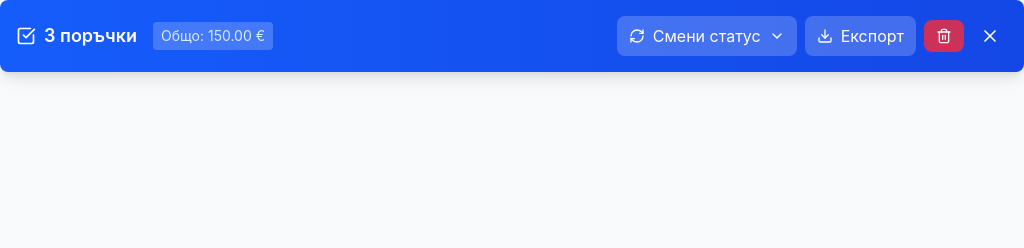
it: BulkActionsBar › delete › closes confirmation on cancel
Click the button titled "Изтрий избраните": (944, 36) x1=924 y1=20 x2=964 y2=52
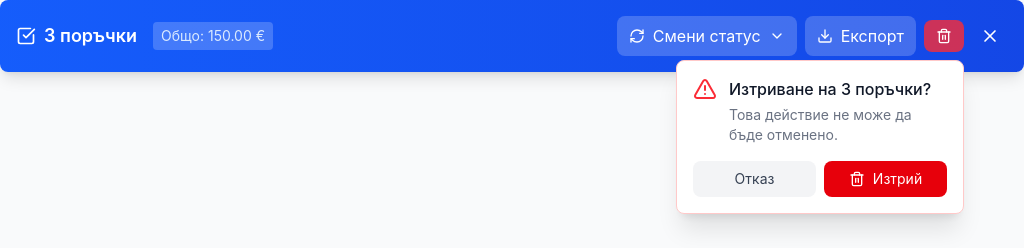
Check: the heading "Изтриване на 3 поръчки?" is shown, box x1=729 y1=77 x2=947 y2=101
Click the button "Отказ": (754, 179) x1=693 y1=161 x2=816 y2=197
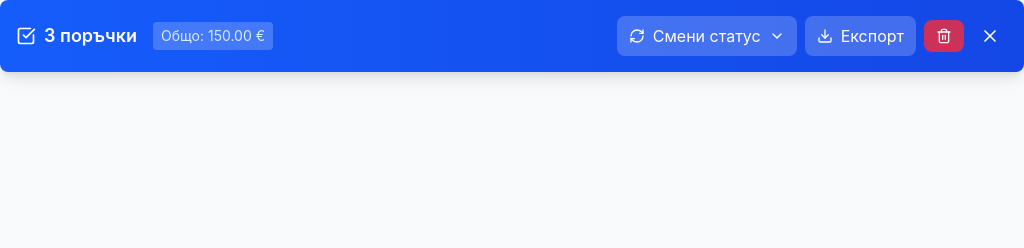
Check: the heading "Изтриване на 3 поръчки" is gone
